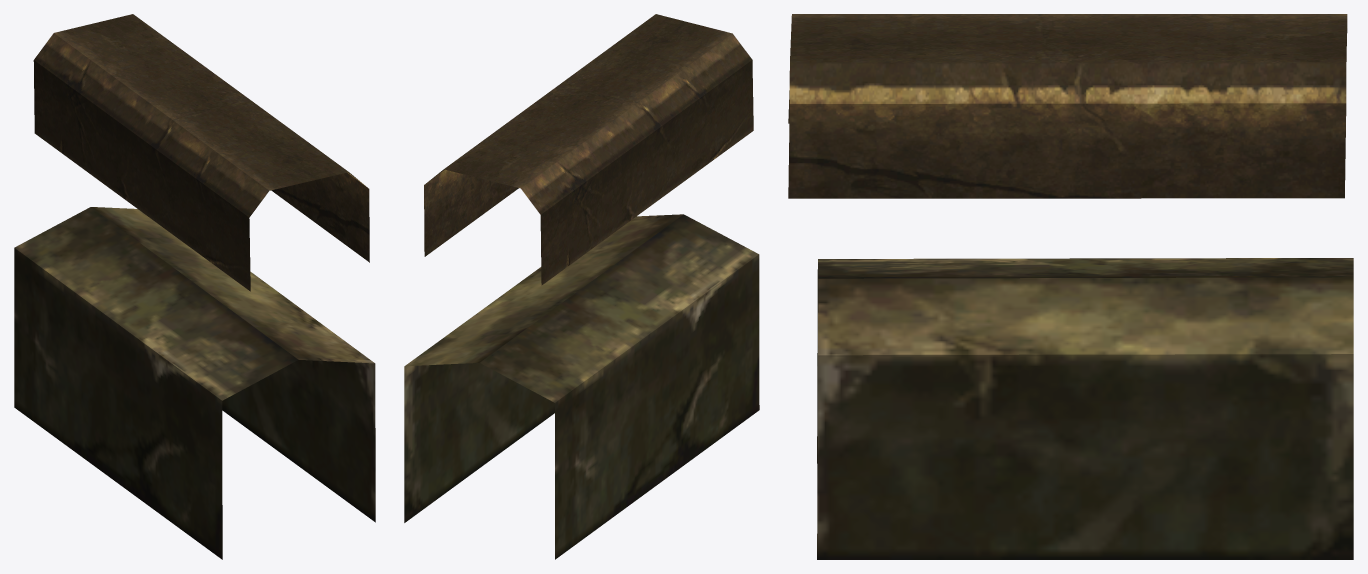
Rendered from Stage001_Bujian_04.FBX.
3 views of the same model, side by side, from view 1: azimuth 30°, elevation 25°; view 2: azimuth 150°, elevation 25°; view 3: azimuth 270°, elevation 25° (orthographic). The views are drawn at different scales.
Visible parts, largest first — view 1: Stage001_Bujian_04; view 2: Stage001_Bujian_04; view 3: Stage001_Bujian_04.
Part boxes in pixels (box(x1,y1,x2,y2)): Stage001_Bujian_04: box(14, 14, 375, 559); Stage001_Bujian_04: box(404, 14, 759, 559); Stage001_Bujian_04: box(788, 14, 1353, 559).
Bounding box in the file's own units: 51.16 × 117 × 127.
Materials: 1 (1 with a texture image).
